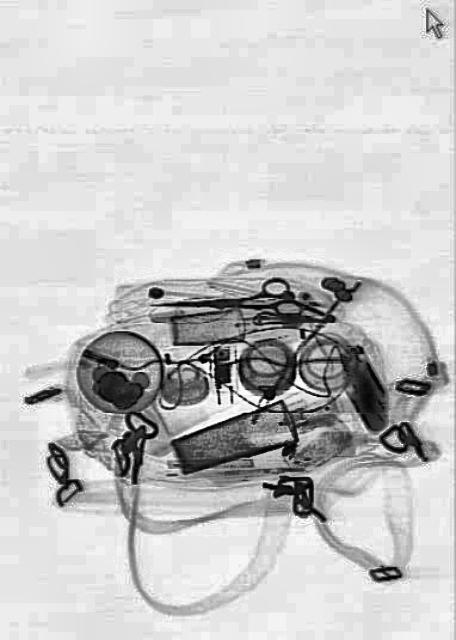Scissors: (150, 275, 302, 325)
